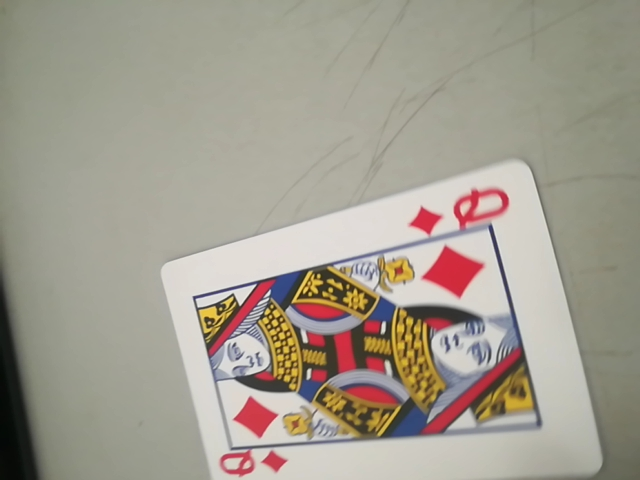fk q: (403, 184, 514, 240), (214, 439, 289, 480)
